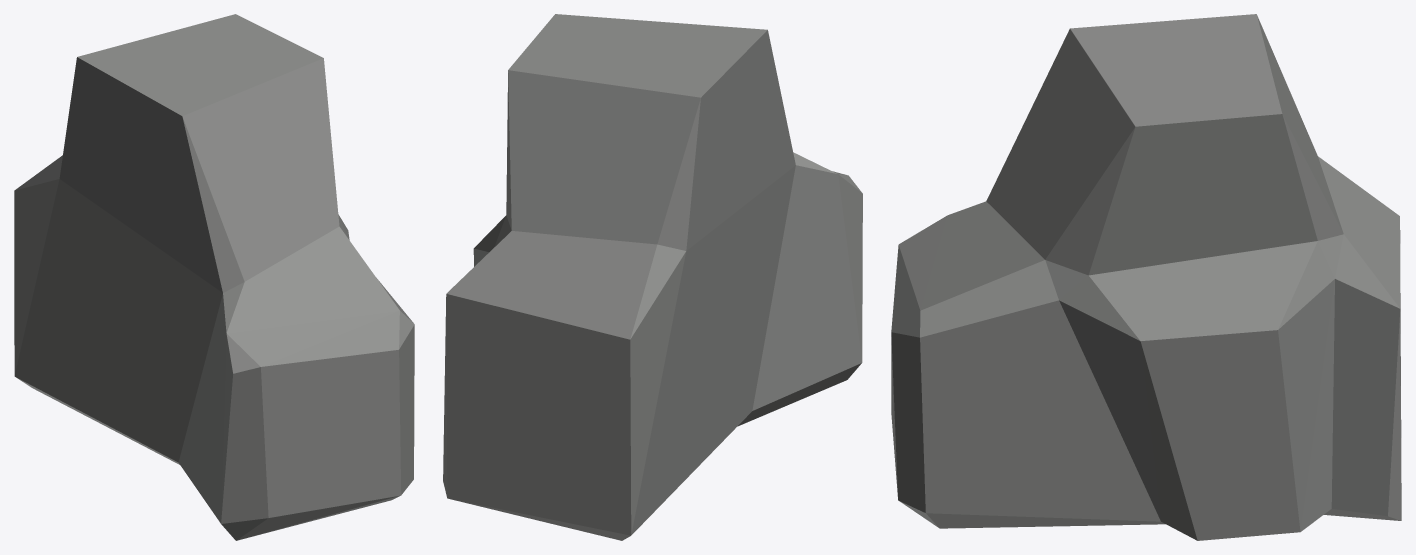
File: RW_HG_Environment_Rocks.004.fbx
3 views of the same model, side by side, from view 1: azimuth 30°, elevation 25°; view 2: azimuth 150°, elevation 25°; view 3: azimuth 270°, elevation 25° (orthographic). The views are drawn at different scales.
Parts seen in each view (by area): view 1: RW_HG_Environment_Rocks.004; view 2: RW_HG_Environment_Rocks.004; view 3: RW_HG_Environment_Rocks.004.
Boxes of the visible parts, x1,y1,x2,y2 form: RW_HG_Environment_Rocks.004: (14,14,414,540); RW_HG_Environment_Rocks.004: (443,14,862,540); RW_HG_Environment_Rocks.004: (891,14,1401,540).
Size of the model in its own units: 0.4816 by 0.7904 by 0.8617.
